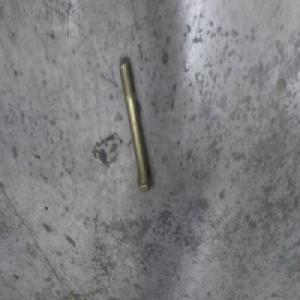Bolt: (122, 57, 154, 190)
